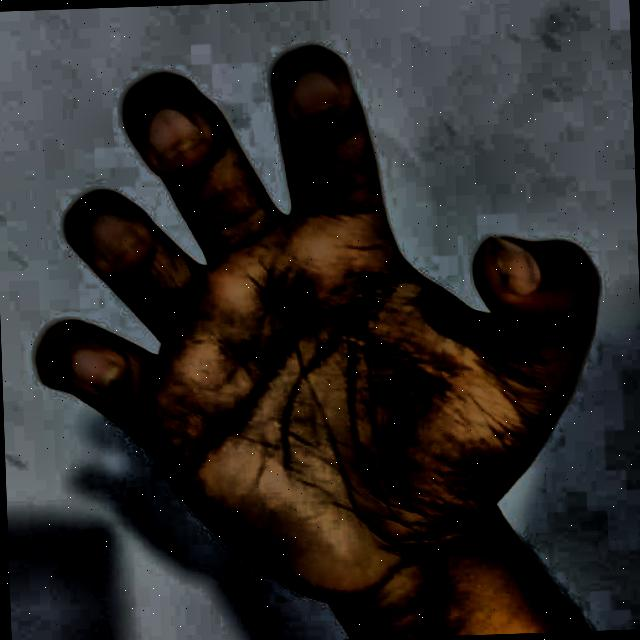Ja: (15, 15, 616, 640)
